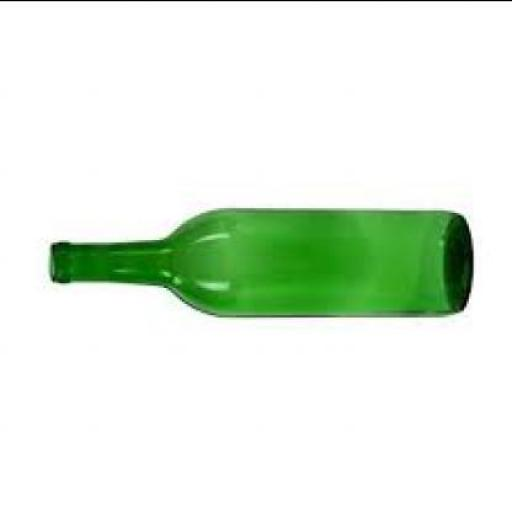glass: (48, 207, 471, 314)
